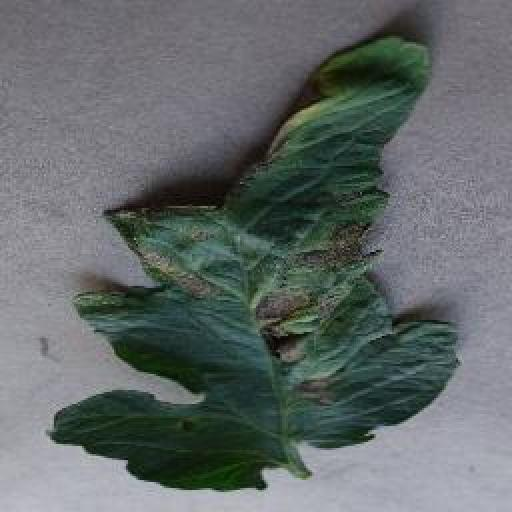Early Blight: (47, 31, 462, 489)
